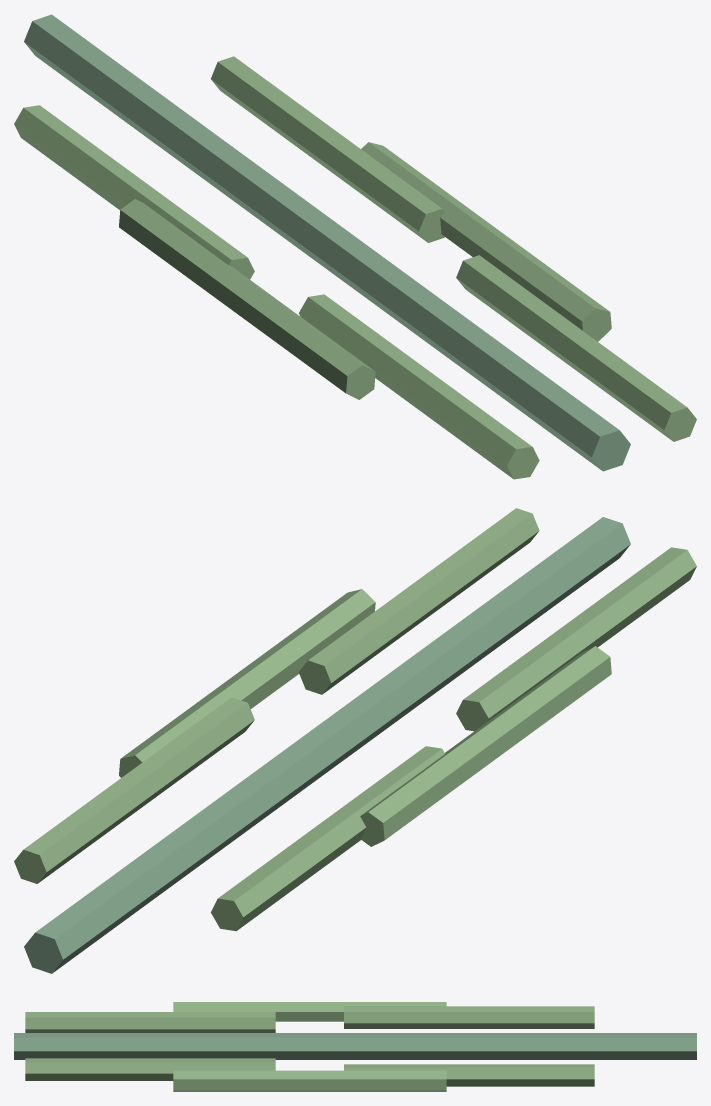
File: bracken_fern.glb
The picture shows the model from 3 angles, top to bottom: view 1: azimuth 30°, elevation 25°; view 2: azimuth 150°, elevation 25°; view 3: azimuth 270°, elevation 25°; orthographic projection. The views are drawn at different scales.
Parts seen in each view (by area): view 1: world; view 2: world; view 3: world.
Boxes of the visible parts, x1,y1,x2,y2 form: world: (14, 14, 696, 479); world: (14, 508, 696, 973); world: (14, 1002, 696, 1091).
Size of the model in its own units: 0.4053 by 0.0544 by 1.5.
